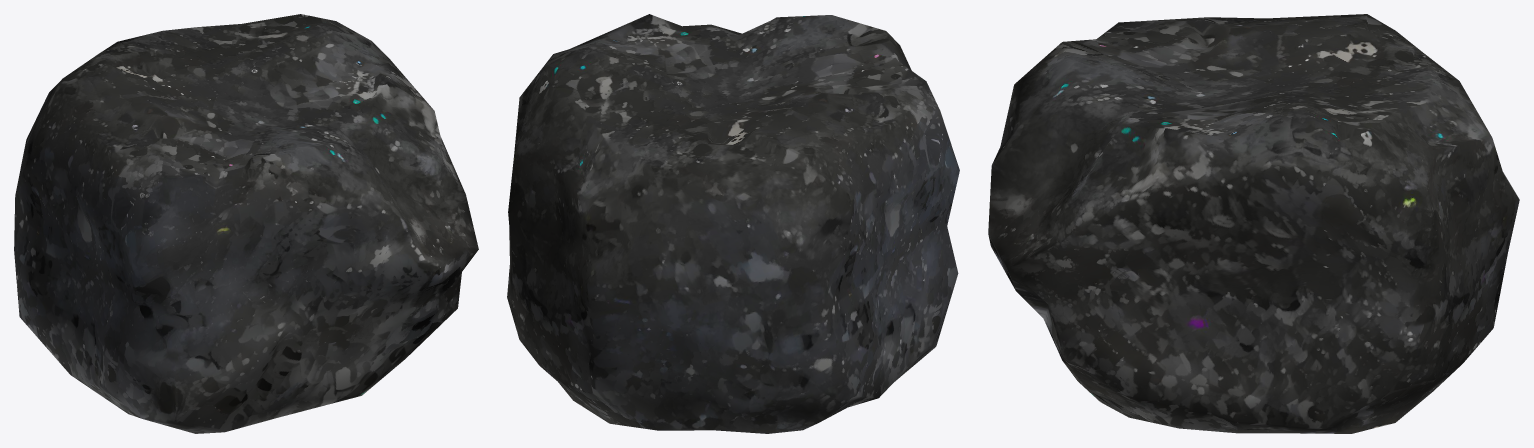
File: Debris_Generic.obj
The picture shows the model from 3 angles, left to right: view 1: azimuth 30°, elevation 25°; view 2: azimuth 150°, elevation 25°; view 3: azimuth 270°, elevation 25°; orthographic projection. The views are drawn at different scales.
Visible parts, largest first — view 1: tripo_node_57955ec0-058b-4d24-a917-e61281b79b95; view 2: tripo_node_57955ec0-058b-4d24-a917-e61281b79b95; view 3: tripo_node_57955ec0-058b-4d24-a917-e61281b79b95.
Part boxes in pixels (bbox=[...]): tripo_node_57955ec0-058b-4d24-a917-e61281b79b95: bbox=[14, 14, 478, 433]; tripo_node_57955ec0-058b-4d24-a917-e61281b79b95: bbox=[507, 14, 959, 433]; tripo_node_57955ec0-058b-4d24-a917-e61281b79b95: bbox=[988, 14, 1519, 433].
Bounding box in the file's own units: 0.7757 × 0.7127 × 1.01.
Materials: 1 (1 with a texture image).
